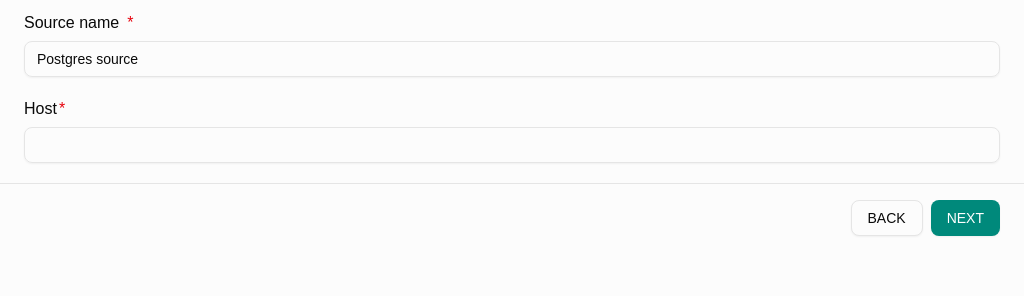
it: blocks Next with an inline error when the source name is cleared
Clear the field with test id "wizard-source-name" at (512, 59), box [24,41,1000,77]
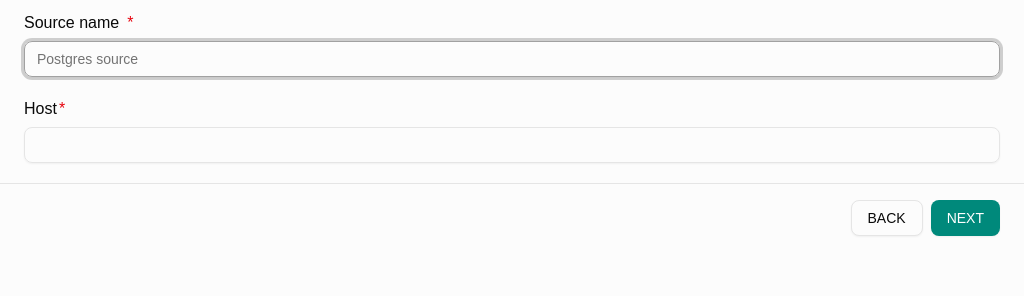
Click the button with test id "wizard-next-btn" at (965, 218), box [931,200,1000,236]
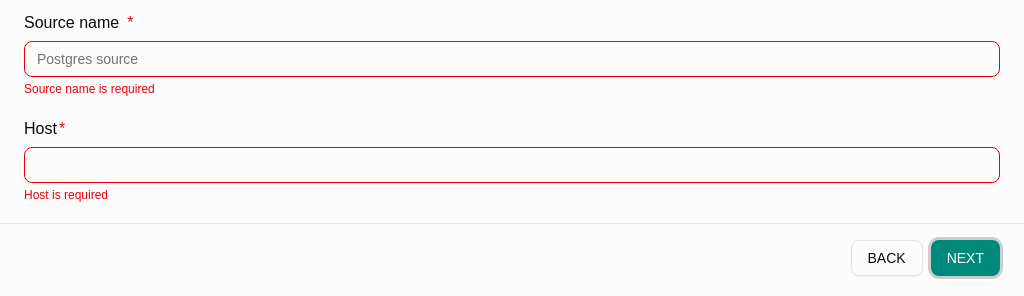
Expected: the text "Source name is required" is shown, [24,82,155,96]
